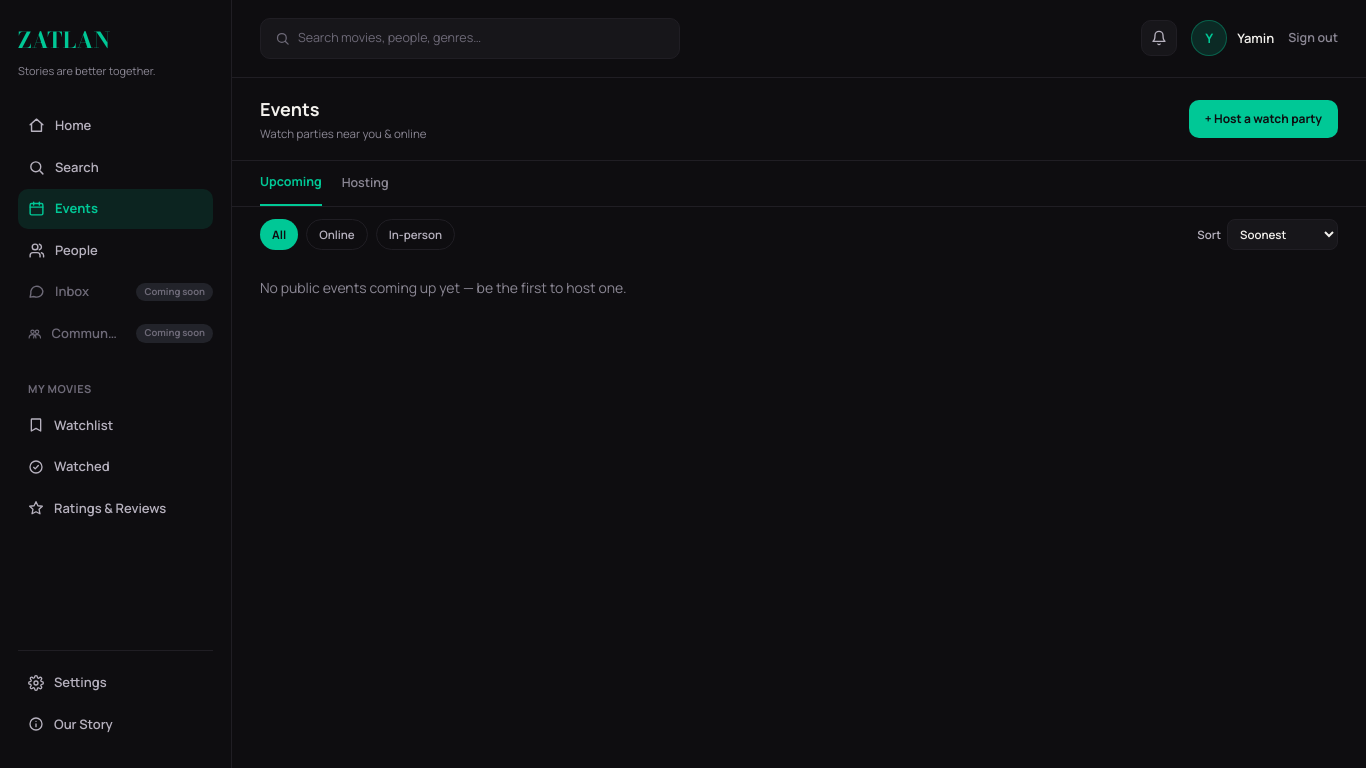
Test case: EventsPage › switches to the Hosting tab and fetches hosted events instead
Click the button "Hosting". click: (365, 189)
box: 342,173 -> 389,206
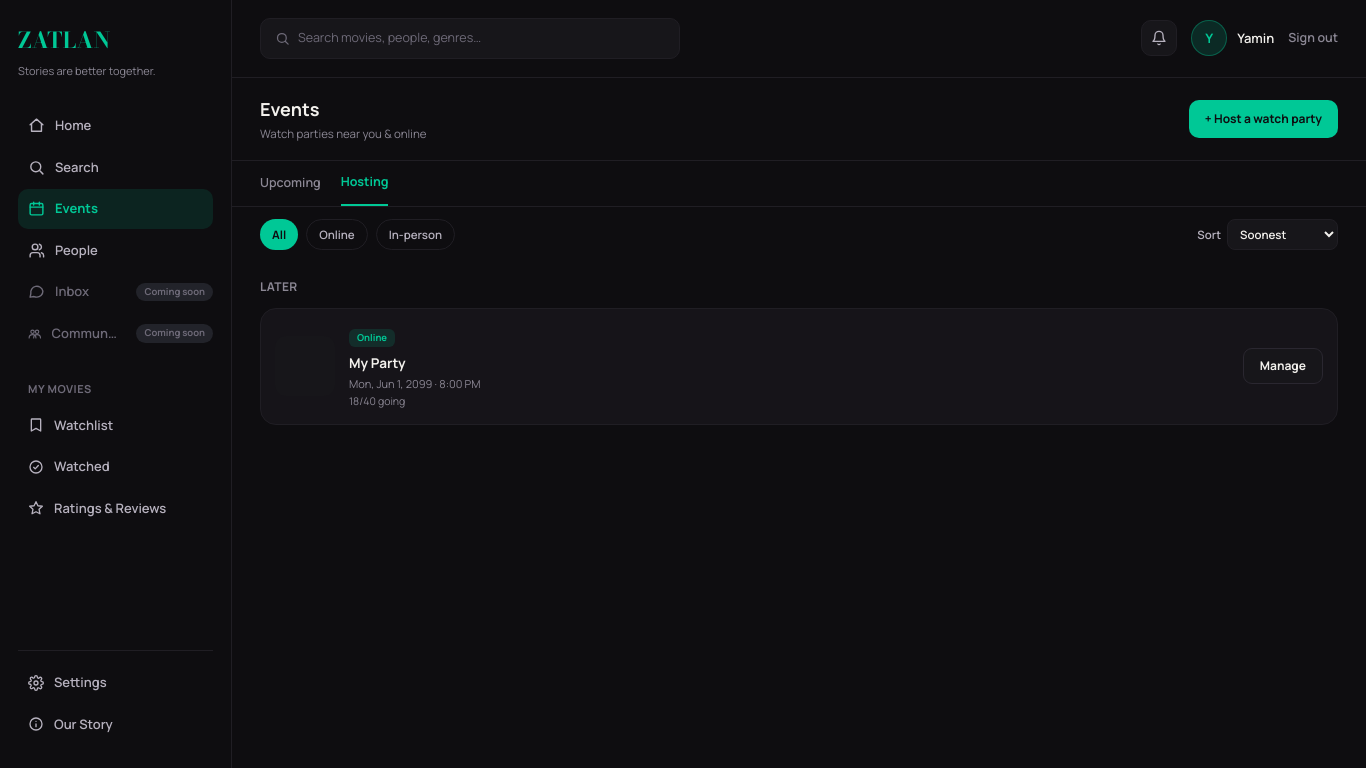
expect the text "My Party" is shown: met, box 349,354 -> 406,372
